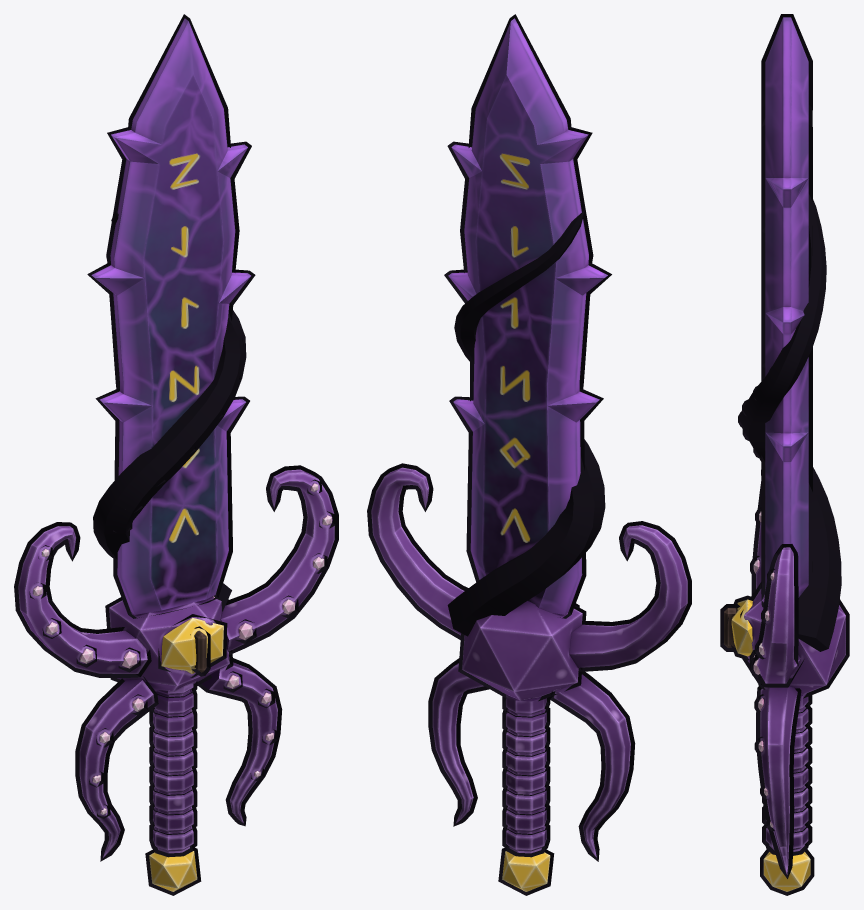
Rendered from KrakenSword.fbx.
3 renders of one model, left to right at view 1: azimuth 30°, elevation 25°; view 2: azimuth 150°, elevation 25°; view 3: azimuth 270°, elevation 25°, orthographic.
Parts seen in each view (by area): view 1: KrakenSword, KrakenSwordOutline, KrakenSwordKrakenEye; view 2: KrakenSword, KrakenSwordOutline, KrakenSwordKrakenEye; view 3: KrakenSword, KrakenSwordOutline, KrakenSwordKrakenEye.
Part boxes in pixels (bbox=[...]): KrakenSword: bbox=[18, 18, 334, 857]; KrakenSwordOutline: bbox=[14, 14, 338, 895]; KrakenSwordKrakenEye: bbox=[149, 618, 223, 891]; KrakenSword: bbox=[371, 18, 687, 857]; KrakenSwordOutline: bbox=[367, 14, 691, 895]; KrakenSwordKrakenEye: bbox=[502, 851, 550, 891]; KrakenSword: bbox=[724, 17, 845, 874]; KrakenSwordOutline: bbox=[720, 14, 849, 895]; KrakenSwordKrakenEye: bbox=[731, 599, 810, 891].
Bounding box in the file's own units: 188 × 498 × 65.68.
2 materials, 1 textured.
